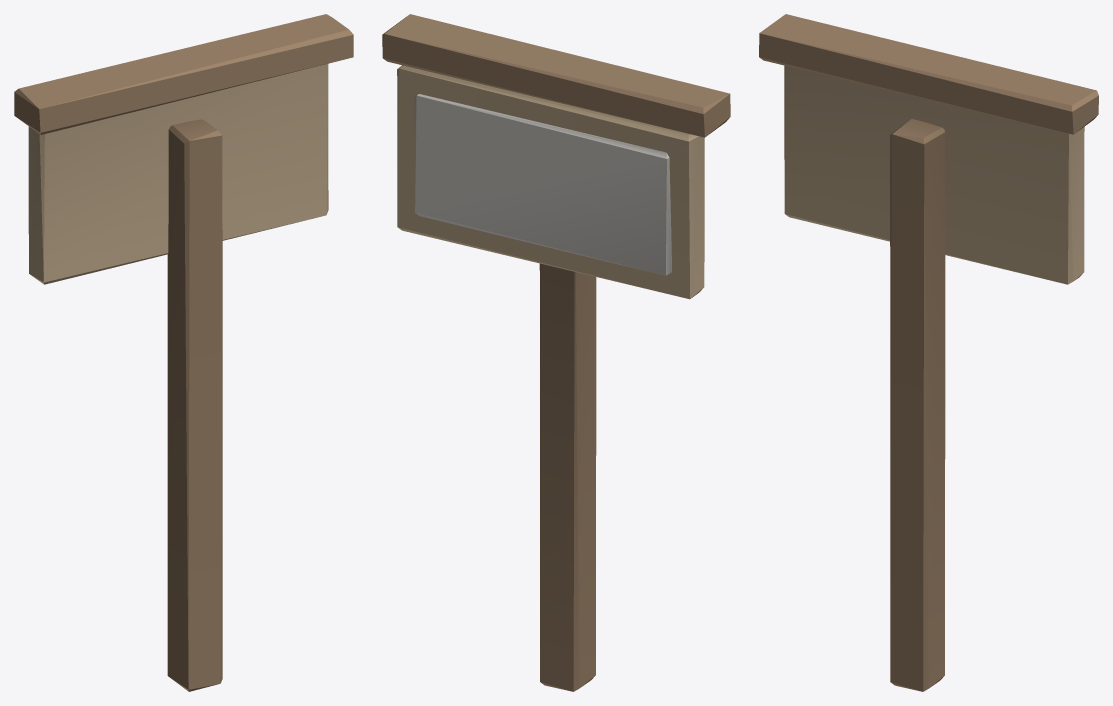
The model's file is home_nameplate__base_low.glb.
3 renders of one model, left to right at view 1: azimuth 30°, elevation 25°; view 2: azimuth 150°, elevation 25°; view 3: azimuth 330°, elevation 25°, orthographic. The views are drawn at different scales.
Bounding box in the file's own units: 0.6562 × 1.22 × 0.1321.
